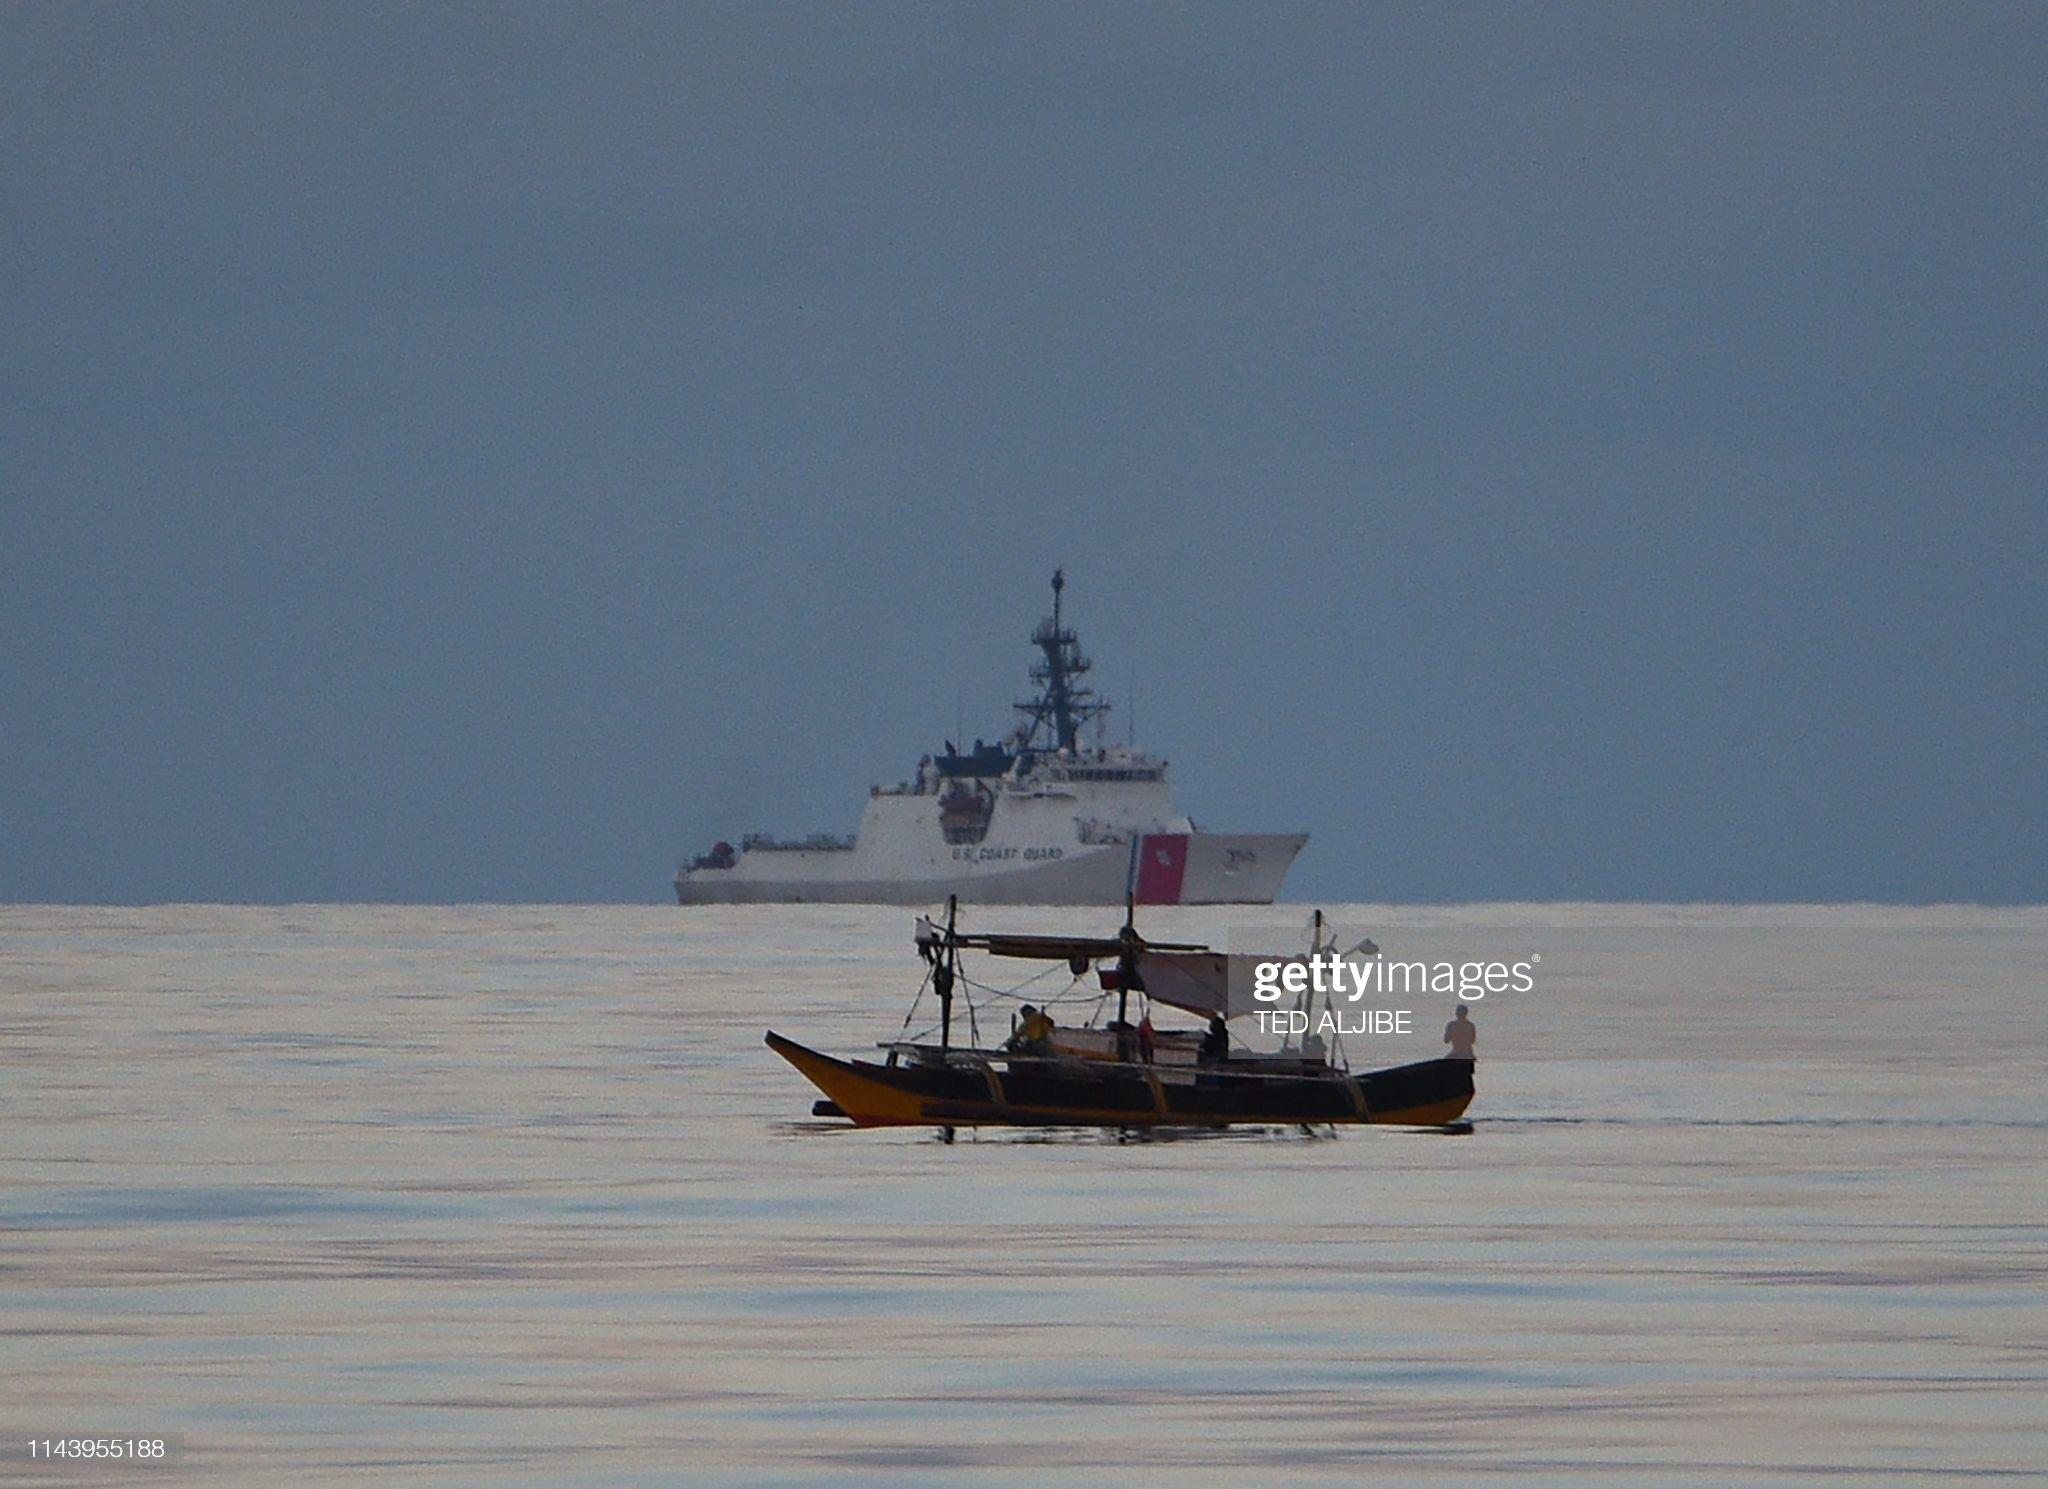Ship: (771, 916, 1479, 1123)
